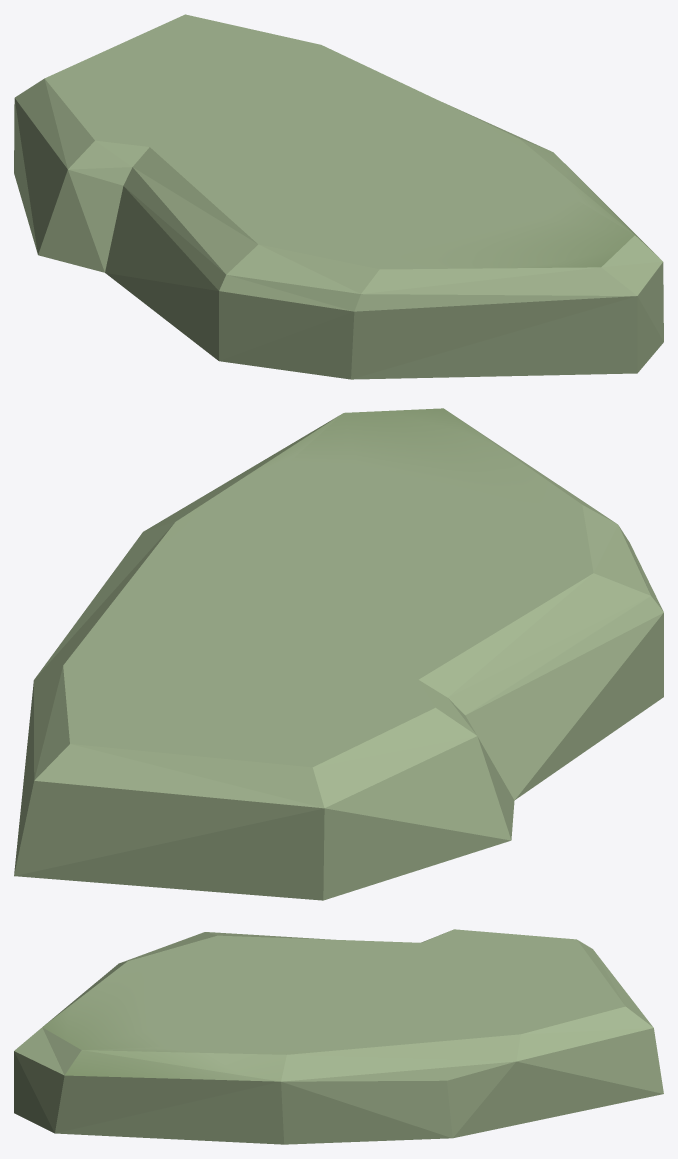
File: EA_Swamp_tree6.003.glb
The picture shows the model from 3 angles, top to bottom: view 1: azimuth 30°, elevation 25°; view 2: azimuth 150°, elevation 25°; view 3: azimuth 270°, elevation 25°; orthographic projection. The views are drawn at different scales.
Parts seen in each view (by area): view 1: EA_Swamp_tree6.003; view 2: EA_Swamp_tree6.003; view 3: EA_Swamp_tree6.003.
Part boxes in pixels (x1,y1,x2,y2): EA_Swamp_tree6.003: [14, 14, 663, 379]; EA_Swamp_tree6.003: [14, 408, 663, 900]; EA_Swamp_tree6.003: [14, 929, 663, 1144].
Size of the model in its own units: 3.8 by 0.9001 by 6.48.
Materials: 1 (1 with a texture image).
